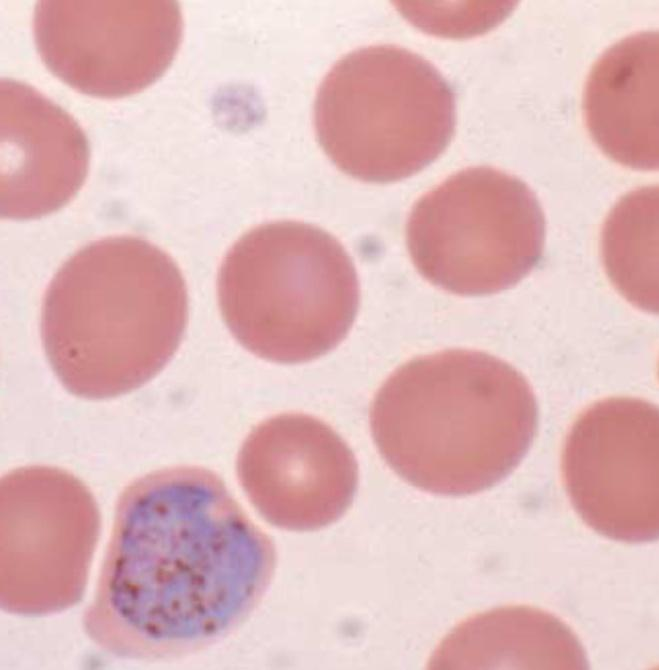Infected: (87, 463, 277, 658)
Uninfected: (369, 352, 540, 499), (47, 233, 194, 398), (310, 48, 458, 177), (223, 223, 358, 363), (407, 168, 547, 299), (0, 465, 103, 613), (561, 399, 659, 546), (239, 413, 355, 536)
